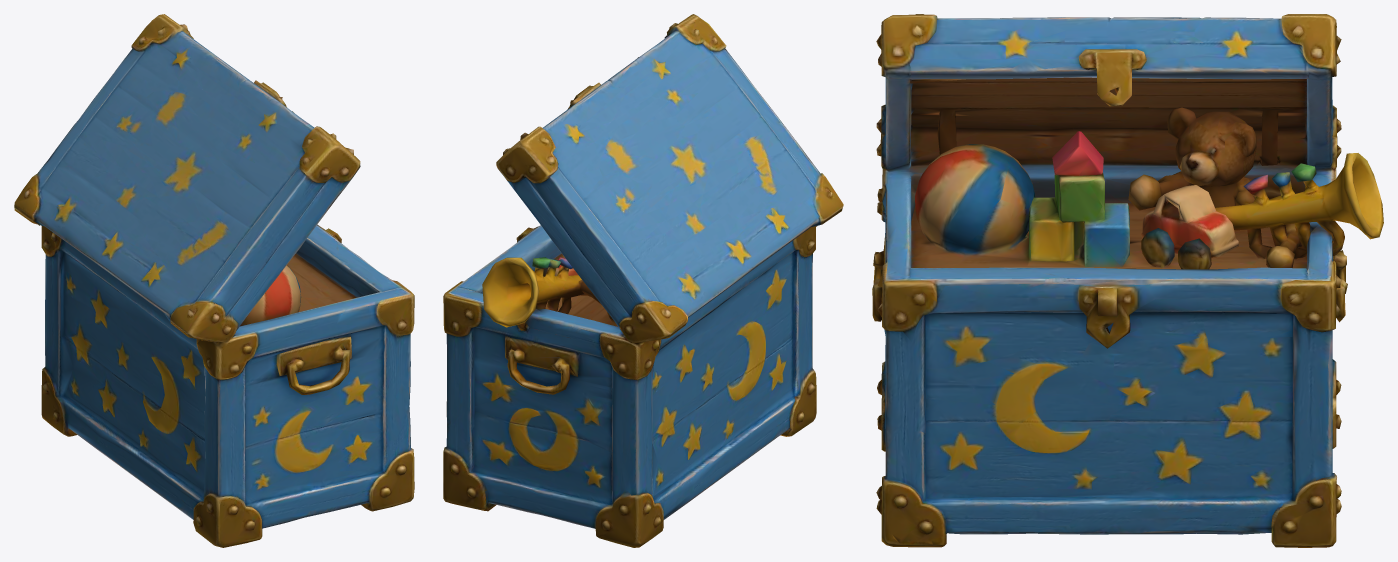
File: chest.glb
3 renders of one model, left to right at view 1: azimuth 30°, elevation 25°; view 2: azimuth 150°, elevation 25°; view 3: azimuth 270°, elevation 25°, orthographic. The views are drawn at different scales.
Visible parts, largest first — view 1: tripo_node_9260e43a-dc60-46a2-975a-53698a209ae6; view 2: tripo_node_9260e43a-dc60-46a2-975a-53698a209ae6; view 3: tripo_node_9260e43a-dc60-46a2-975a-53698a209ae6.
Part boxes in pixels (x1,y1,x2,y2): tripo_node_9260e43a-dc60-46a2-975a-53698a209ae6: [14, 14, 414, 547]; tripo_node_9260e43a-dc60-46a2-975a-53698a209ae6: [443, 14, 843, 547]; tripo_node_9260e43a-dc60-46a2-975a-53698a209ae6: [872, 14, 1383, 547].
Size of the model in its own units: 0.6417 by 0.9796 by 0.9381.
1 material, 1 textured.
